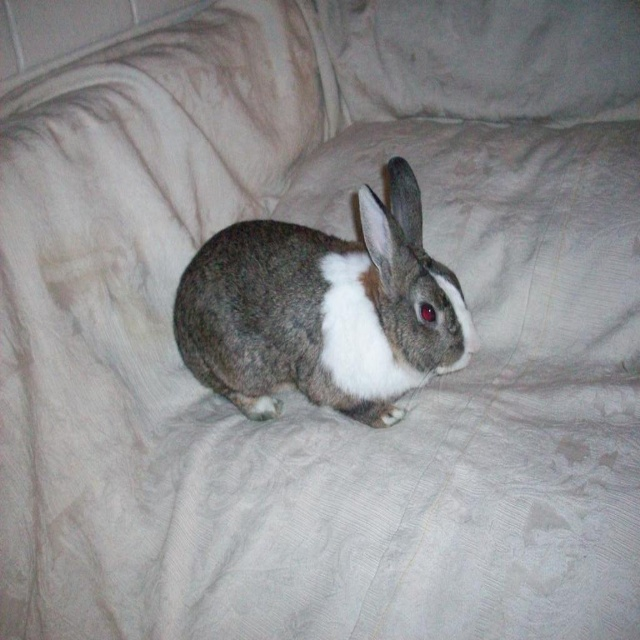Rabbit: (172, 156, 481, 430)
